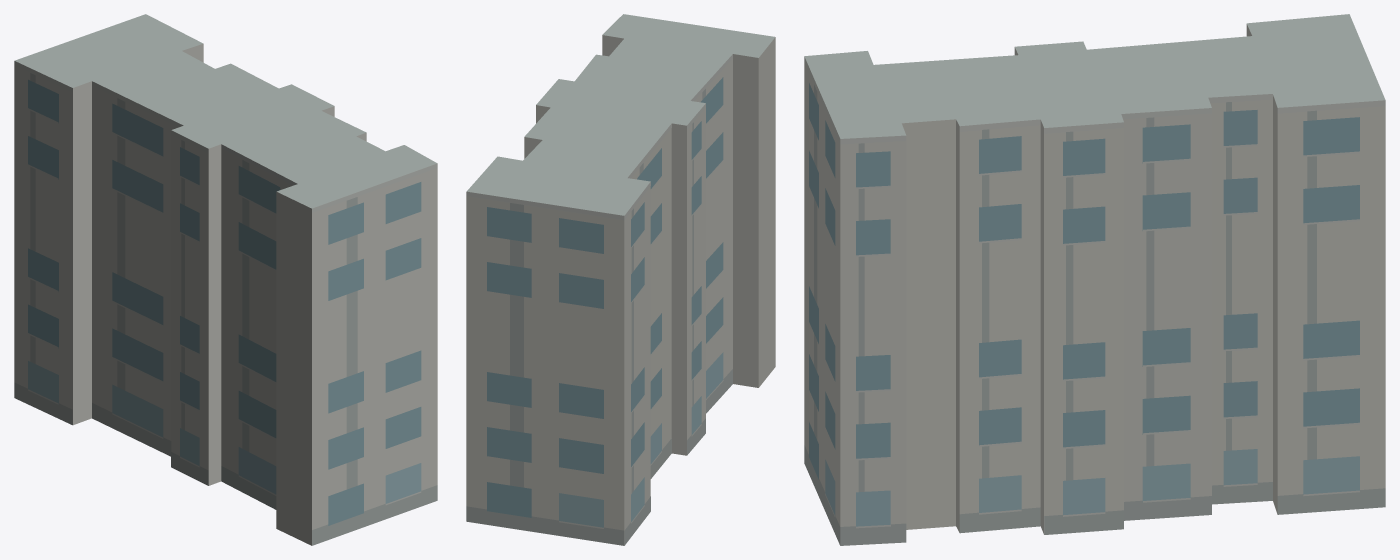
The model's file is survey-upis-32798675.glb.
3 views of the same model, side by side, from view 1: azimuth 30°, elevation 25°; view 2: azimuth 150°, elevation 25°; view 3: azimuth 270°, elevation 25° (orthographic). The views are drawn at different scales.
Parts seen in each view (by area): view 1: survey-upis-32798675.tmp; view 2: survey-upis-32798675.tmp; view 3: survey-upis-32798675.tmp.
Part boxes in pixels (x1,y1,x2,y2): survey-upis-32798675.tmp: (14,14,437,545); survey-upis-32798675.tmp: (466,14,775,545); survey-upis-32798675.tmp: (804,14,1385,545).
Bounding box in the file's own units: 11.7 × 17.75 × 22.99.
